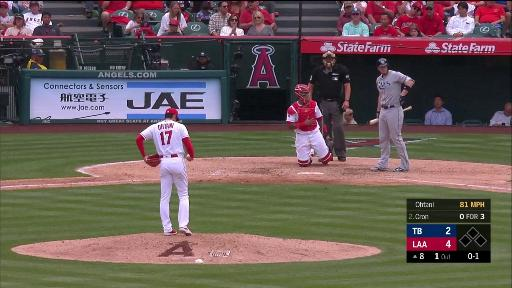pitcher: (134, 107, 195, 235)
